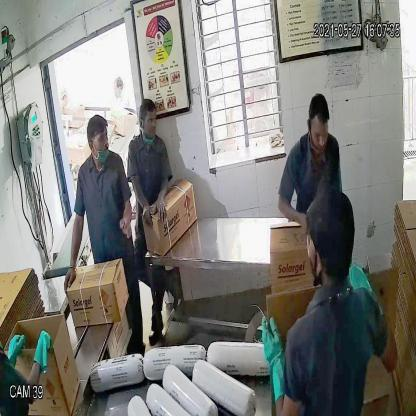no_goggles: (83, 127, 114, 151), (306, 120, 331, 146)
